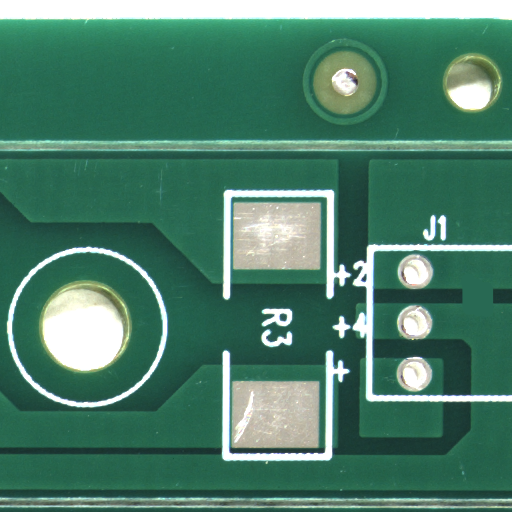Short: (476, 297, 512, 329)
